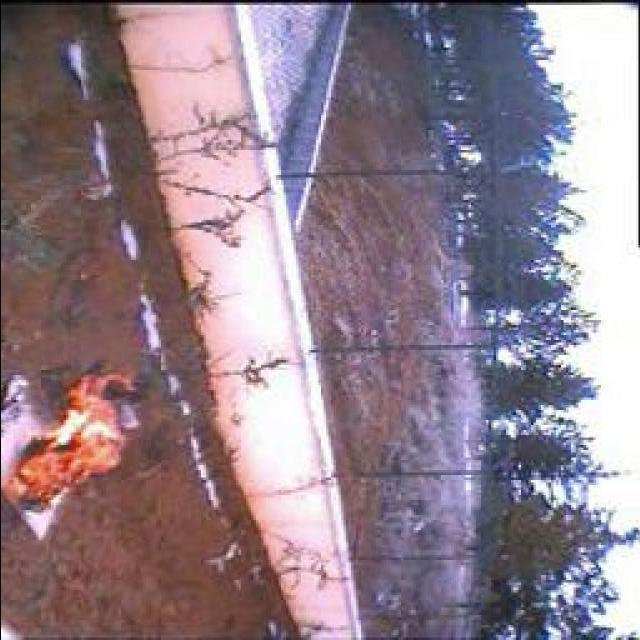Fire: (1, 368, 138, 516)
